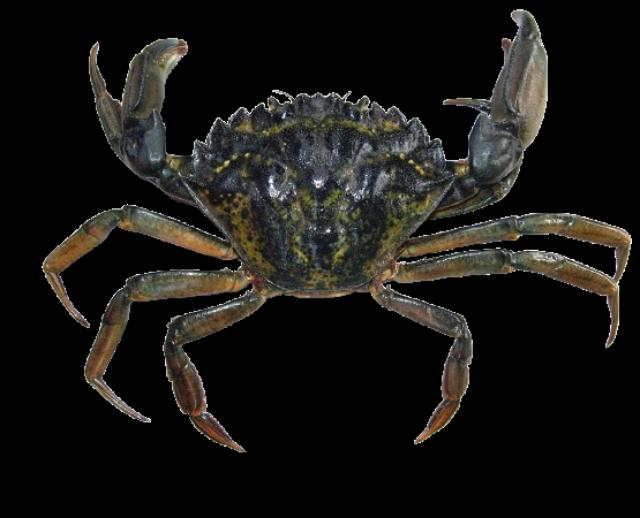crab: (12, 5, 635, 515)
